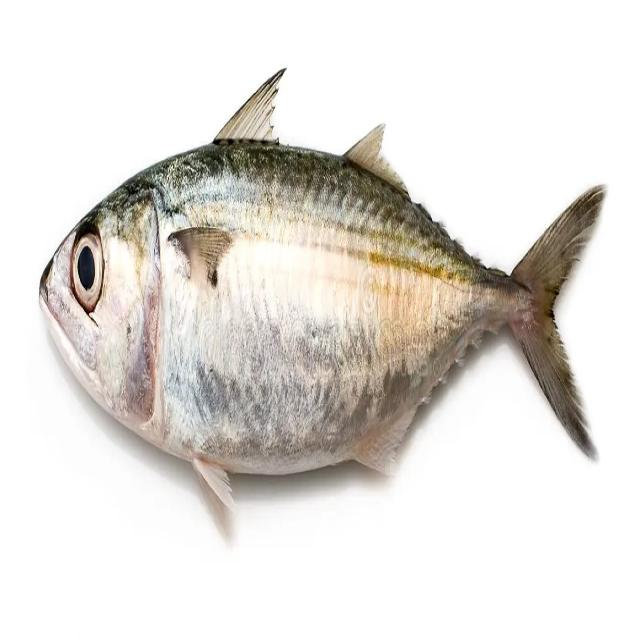Mackerel: (38, 63, 607, 517)
